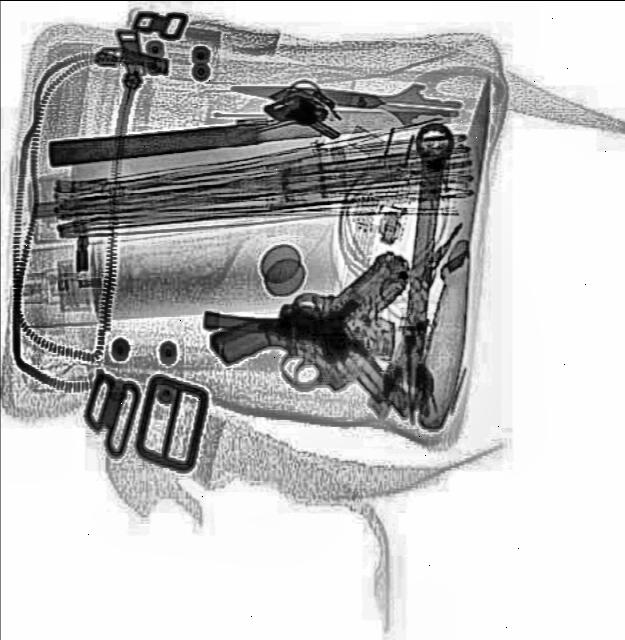Gun: (201, 270, 421, 478), (198, 229, 408, 365)
Knife: (411, 75, 511, 431), (47, 103, 449, 169), (226, 70, 460, 138)
Wrench: (378, 125, 464, 412)
